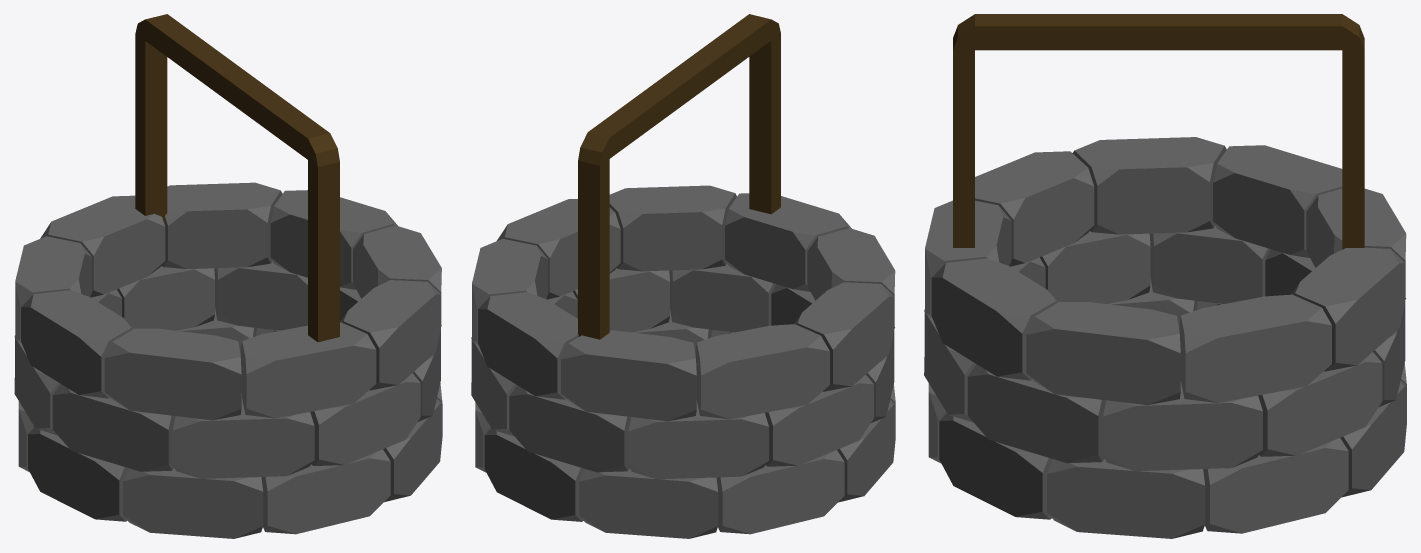
Rendered from water_well_2.fbx.
3 renders of one model, left to right at view 1: azimuth 30°, elevation 25°; view 2: azimuth 150°, elevation 25°; view 3: azimuth 270°, elevation 25°, orthographic. The views are drawn at different scales.
Visible parts, largest first — view 1: water_well_2; view 2: water_well_2; view 3: water_well_2.
Boxes of the visible parts, x1,y1,x2,y2 form: water_well_2: (14, 14, 442, 538); water_well_2: (471, 14, 895, 538); water_well_2: (924, 14, 1406, 538).
Size of the model in its own units: 235 by 226 by 235.
